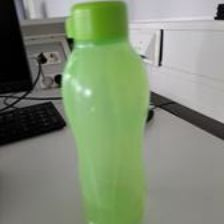bottle: (60, 1, 151, 223)
